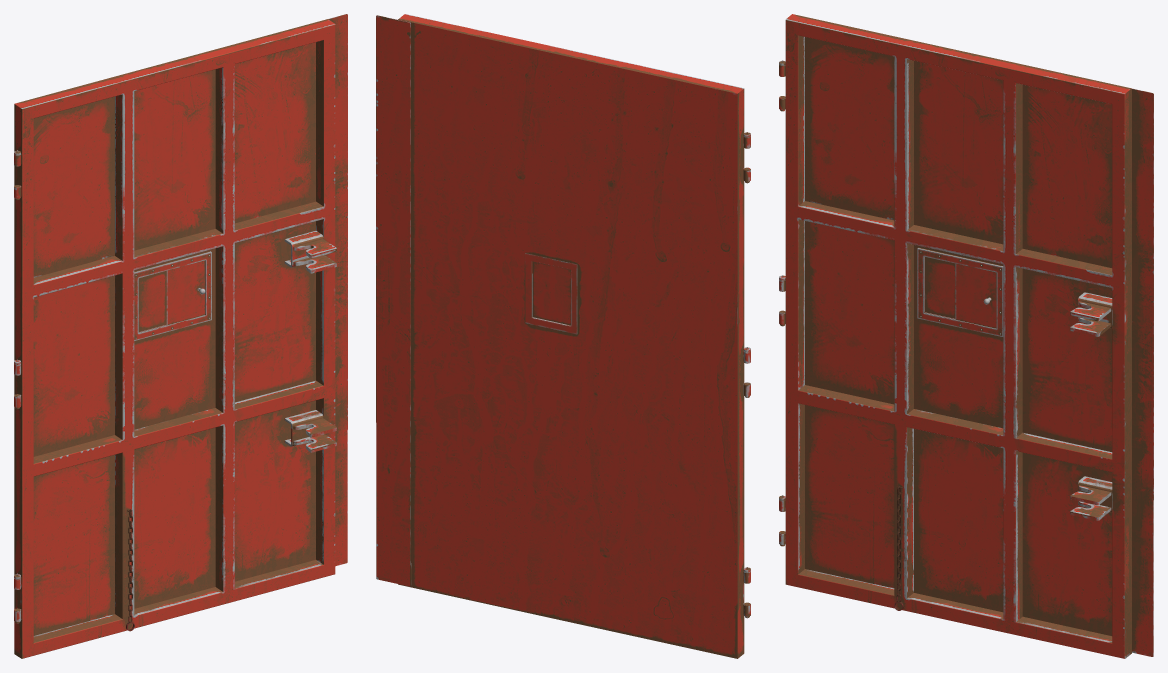
File: rework2.glb
3 renders of one model, left to right at view 1: azimuth 30°, elevation 25°; view 2: azimuth 150°, elevation 25°; view 3: azimuth 330°, elevation 25°, orthographic. The views are drawn at different scales.
Parts seen in each view (by area): view 1: stanga, Cube.001, Cube, LANT STANGA.003; view 2: stanga, Cube.001, Plane; view 3: stanga, Cube.001, Cube.
Boxes of the visible parts, <box> form: stanga: <box>14,14,347,658</box>; Cube.001: <box>166,260,205,325</box>; Cube: <box>134,251,211,340</box>; LANT STANGA.003: <box>126,509,134,631</box>; stanga: <box>376,14,750,658</box>; Cube.001: <box>532,261,570,325</box>; Plane: <box>525,253,577,334</box>; stanga: <box>779,14,1153,658</box>; Cube.001: <box>955,263,996,328</box>; Cube: <box>917,247,1003,336</box>.
Bounding box in the file's own units: 170 × 256 × 19.06.
5 materials, 5 textured.
